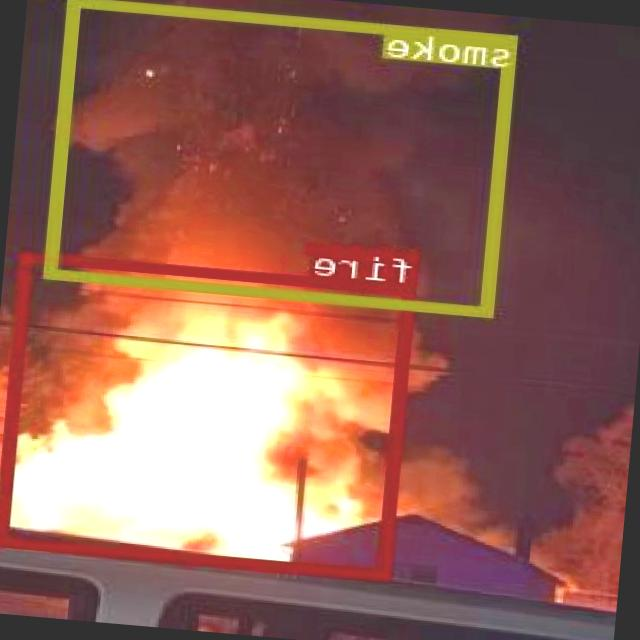fire: (0, 249, 417, 578)
smoke: (47, 0, 518, 314)
